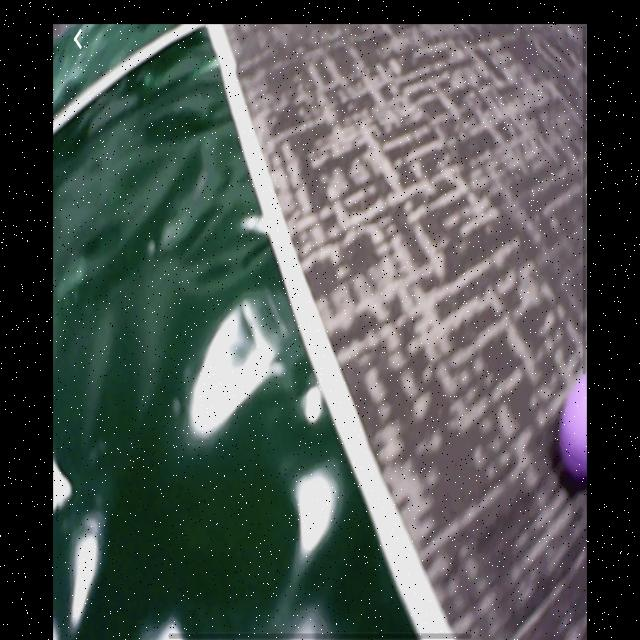ball: (559, 372, 588, 482)
